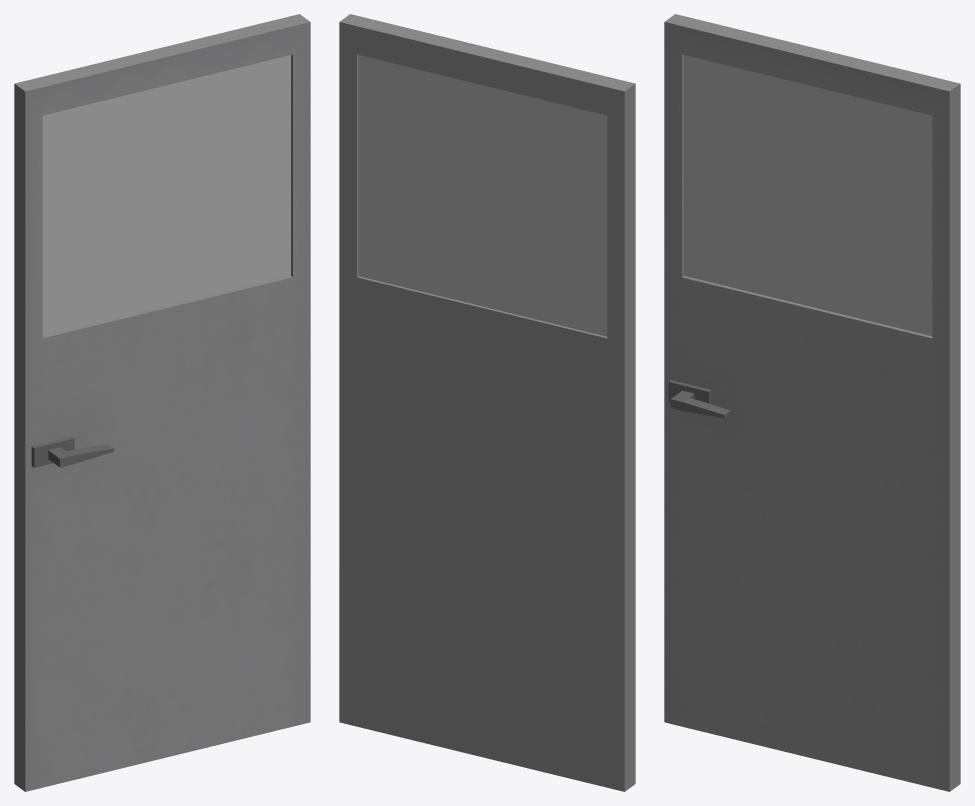
File: Hosp_Door2.glb
3 renders of one model, left to right at view 1: azimuth 30°, elevation 25°; view 2: azimuth 150°, elevation 25°; view 3: azimuth 330°, elevation 25°, orthographic.
Parts seen in each view (by area): view 1: Door-material.001; view 2: Door-material.001; view 3: Door-material.001.
Boxes of the visible parts, x1,y1,x2,y2 form: Door-material.001: (14,14,310,791); Door-material.001: (339,14,635,791); Door-material.001: (664,14,960,791).
Bounding box in the file's own units: 0.9752 × 2.29 × 0.1483.
1 material, 1 textured.
